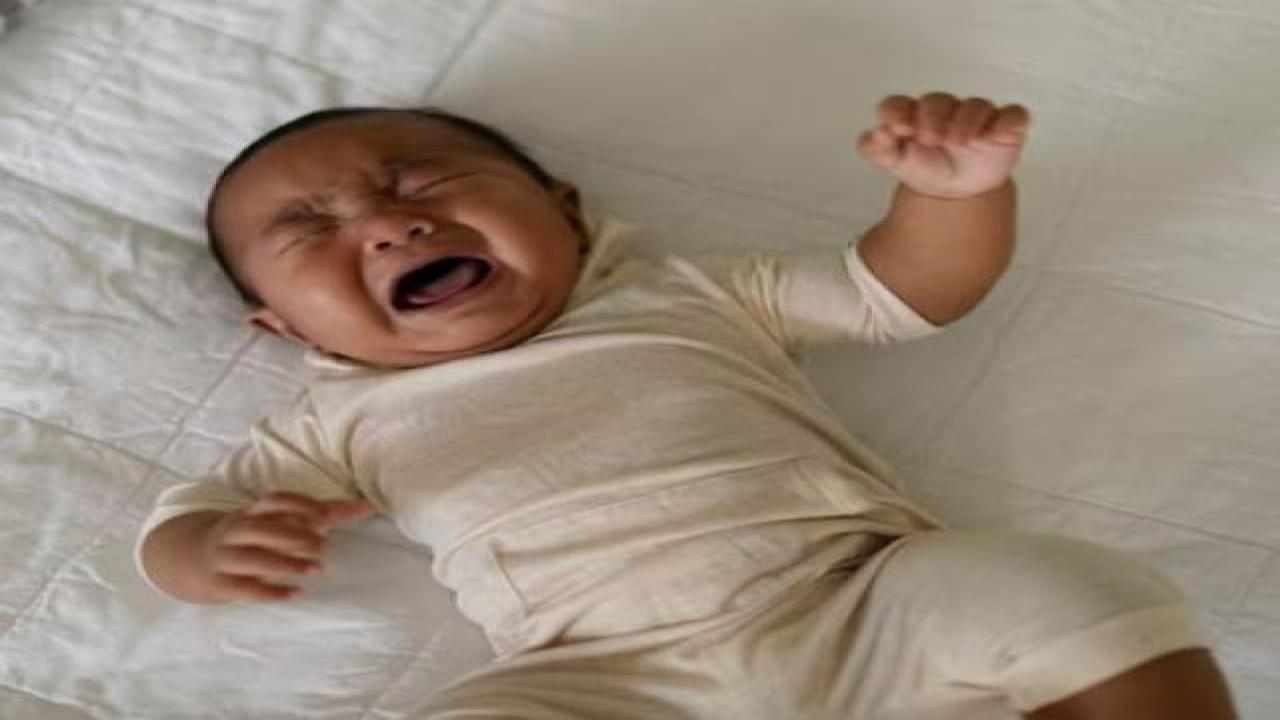hand: (188, 485, 378, 612), (860, 93, 1035, 198)
